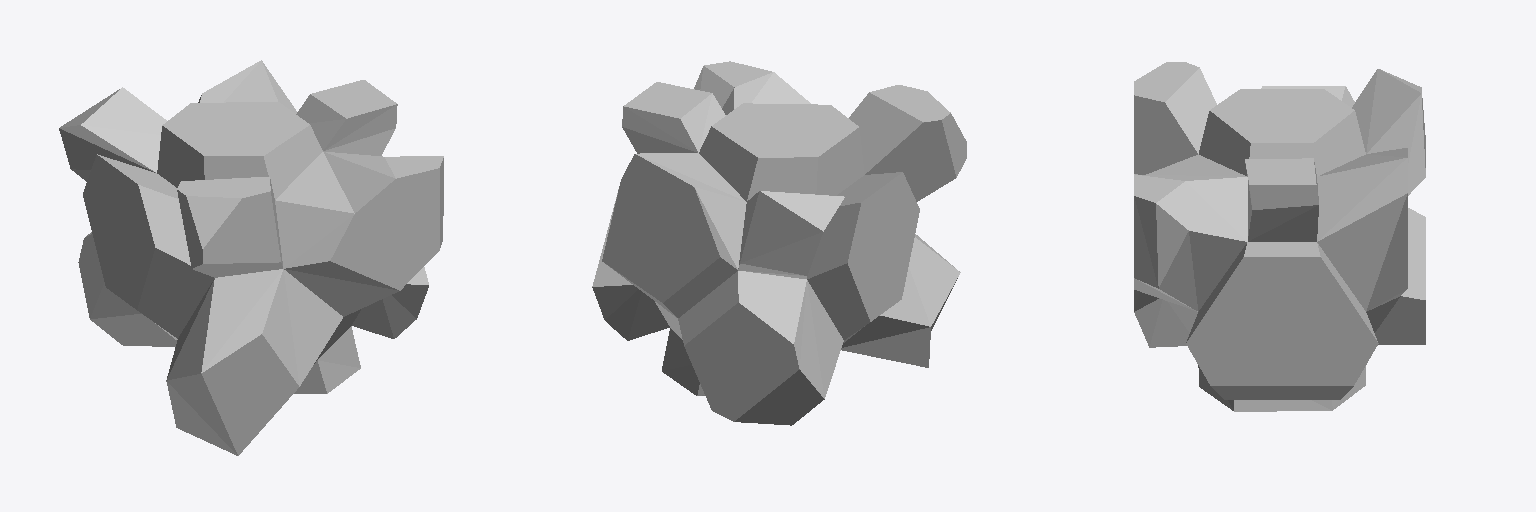
File: sprayed_concrete.obj
3 renders of one model, left to right at view 1: azimuth 30°, elevation 25°; view 2: azimuth 150°, elevation 25°; view 3: azimuth 270°, elevation 25°, orthographic.
Visible parts, largest first — view 1: Cube; view 2: Cube; view 3: Cube.
Boxes of the visible parts, <box> form: Cube: <box>59,60,443,455</box>; Cube: <box>592,61,966,425</box>; Cube: <box>1134,62,1425,411</box>.
Size of the model in its own units: 1 by 1 by 1.